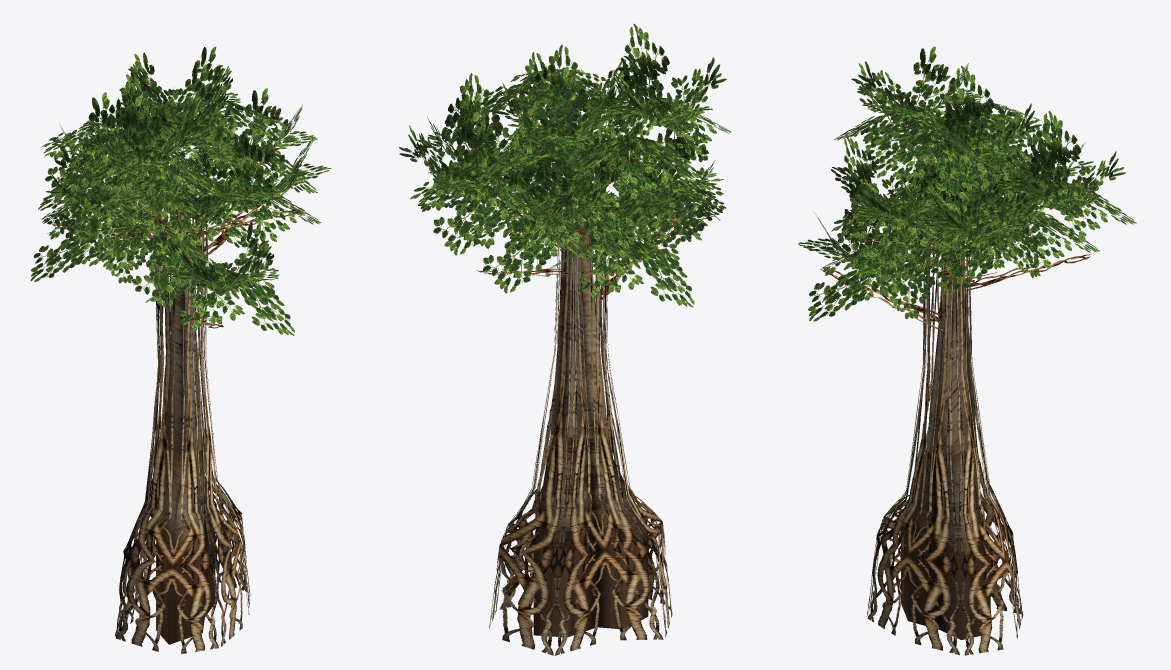
File: flora_tree_strangler.glb
3 views of the same model, side by side, from view 1: azimuth 30°, elevation 25°; view 2: azimuth 150°, elevation 25°; view 3: azimuth 270°, elevation 25° (orthographic). The views are drawn at different scales.
Parts seen in each view (by area): view 1: flora_tree_strangler_part1, flora_tree_strangler_part0; view 2: flora_tree_strangler_part1, flora_tree_strangler_part0; view 3: flora_tree_strangler_part1, flora_tree_strangler_part0.
Part boxes in pixels (x1,y1,x2,y2): flora_tree_strangler_part1: (30, 46, 331, 335); flora_tree_strangler_part0: (52, 160, 300, 654); flora_tree_strangler_part1: (399, 24, 730, 307); flora_tree_strangler_part0: (439, 172, 715, 655); flora_tree_strangler_part1: (798, 46, 1136, 321); flora_tree_strangler_part0: (821, 167, 1091, 655).
Bounding box in the file's own units: 20.2 × 35.24 × 21.56.
Materials: 2 (2 with a texture image).
